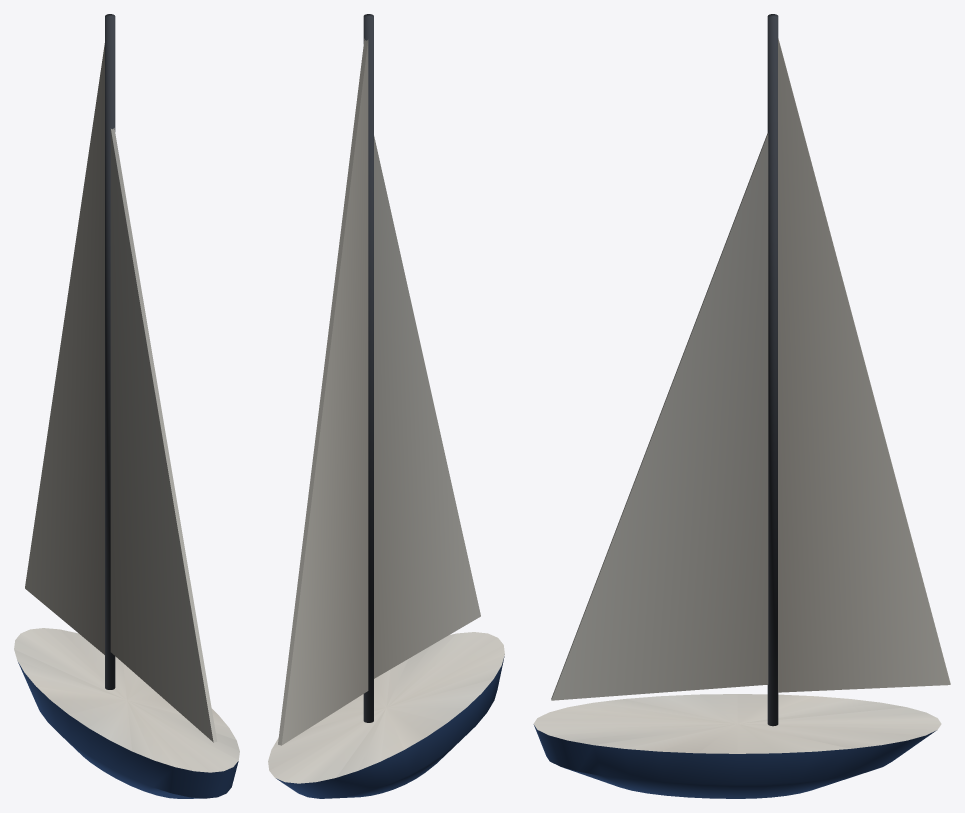
Rendered from shore_sailboat.glb.
3 views of the same model, side by side, from view 1: azimuth 30°, elevation 25°; view 2: azimuth 150°, elevation 25°; view 3: azimuth 270°, elevation 25° (orthographic). The views are drawn at different scales.
Visible parts, largest first — view 1: shore_sailboat; view 2: shore_sailboat; view 3: shore_sailboat.
Part boxes in pixels (bbox=[...]): shore_sailboat: bbox=[14, 14, 239, 798]; shore_sailboat: bbox=[268, 14, 504, 798]; shore_sailboat: bbox=[533, 14, 950, 798].
Size of the model in its own units: 16 by 96 by 47.
